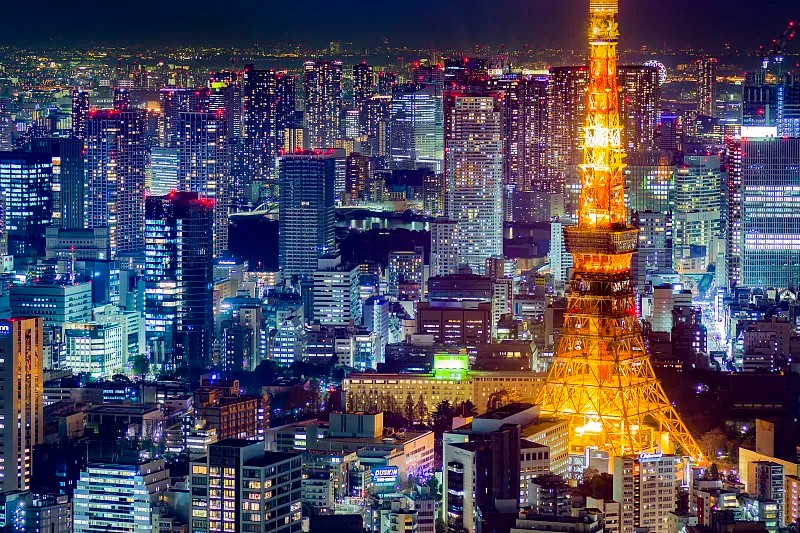Tokyo: (543, 1, 709, 470)
